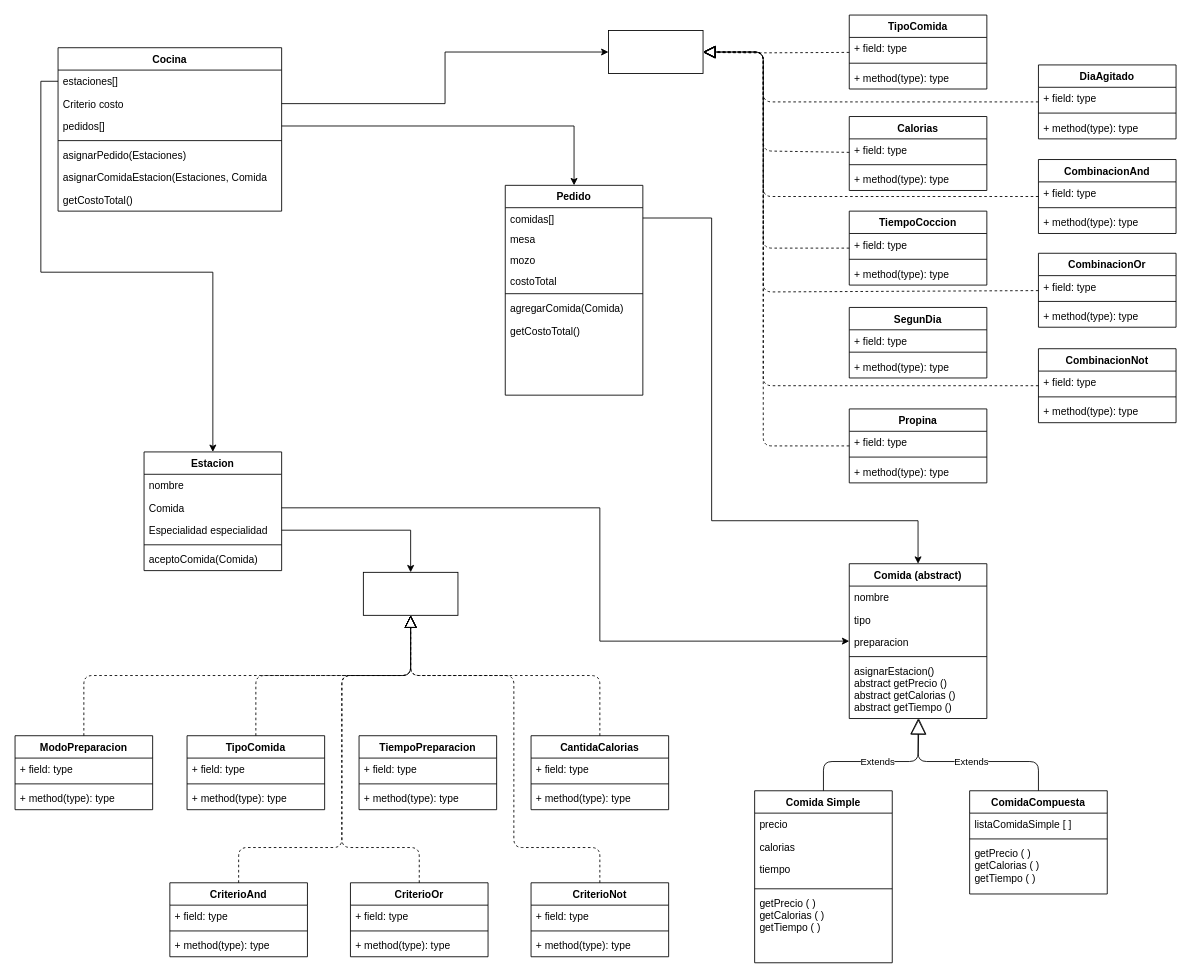
The diagram is 1191 pixels wide and 980 high, and some of its shapes have lost their labels. Each missing label, with the centre of its shape:
«interface» CriterioParaCosto: the point at 655,52
«interface» Especialidad: the point at 410,593
